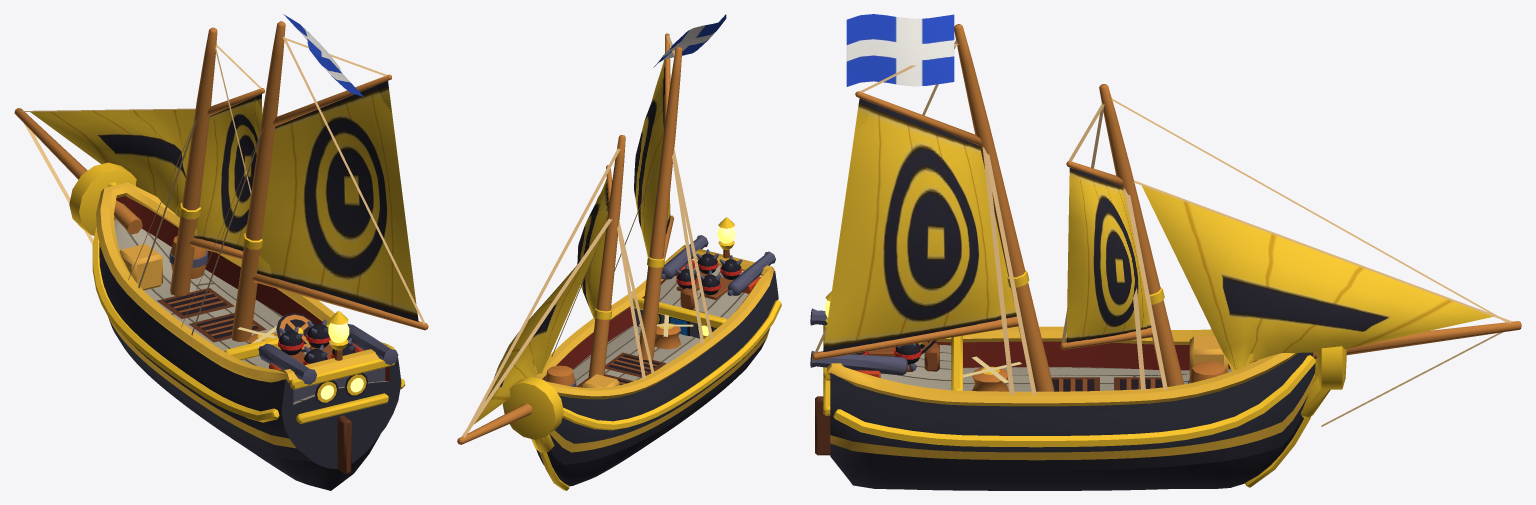
File: enemy_runner.glb
3 renders of one model, left to right at view 1: azimuth 30°, elevation 25°; view 2: azimuth 150°, elevation 25°; view 3: azimuth 270°, elevation 25°, orthographic. The views are drawn at different scales.
Parts seen in each view (by area): view 1: Hull, Sail1_0, Rigging, Jib, Sail0_0, Guns0, Flag; view 2: Hull, Rigging, Jib, Sail1_0, Sail0_0, Guns0, Flag; view 3: Hull, Sail1_0, Jib, Rigging, Sail0_0, Flag, Guns0.
Part boxes in pixels (box(x1,y1,x2,y2)): Hull: box(69, 162, 405, 490); Sail1_0: box(257, 81, 418, 321); Rigging: box(14, 21, 428, 341); Jib: box(30, 109, 195, 217); Sail0_0: box(194, 94, 262, 251); Guns0: box(258, 323, 398, 384); Flag: box(283, 14, 363, 96); Hull: box(502, 217, 781, 490); Rigging: box(457, 33, 712, 444); Jib: box(474, 233, 603, 423); Sail1_0: box(634, 59, 670, 256); Sail0_0: box(577, 178, 608, 320); Guns0: box(661, 235, 775, 295); Flag: box(653, 14, 726, 67); Hull: box(815, 291, 1346, 490); Sail1_0: box(823, 98, 1016, 351); Jib: box(1142, 185, 1493, 370); Rigging: box(812, 24, 1521, 426); Sail0_0: box(1066, 168, 1151, 342); Flag: box(846, 14, 954, 86); Guns0: box(810, 308, 916, 377).
Size of the model in its own units: 0.7038 by 1.91 by 2.59.
8 materials, 4 textured.
